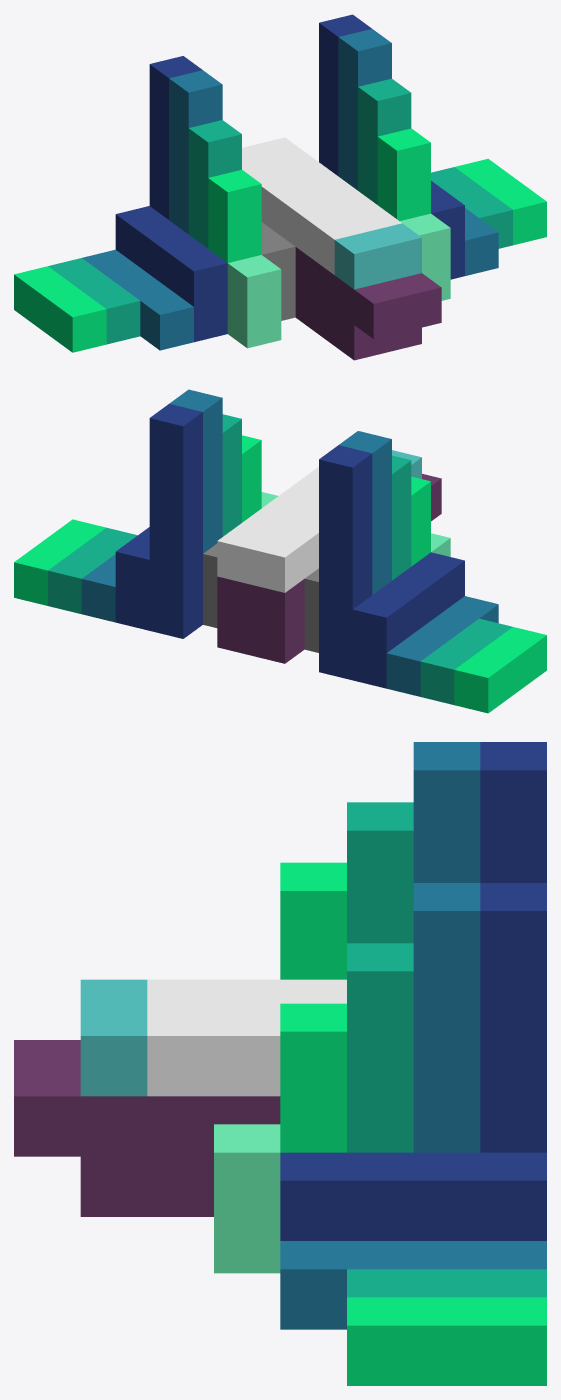
The model's file is nave2.obj.
The picture shows the model from 3 angles, top to bottom: view 1: azimuth 30°, elevation 25°; view 2: azimuth 150°, elevation 25°; view 3: azimuth 270°, elevation 25°; orthographic projection. The views are drawn at different scales.
Bounding box in the file's own units: 1.4 × 0.6 × 0.8.
1 material, 1 textured.
